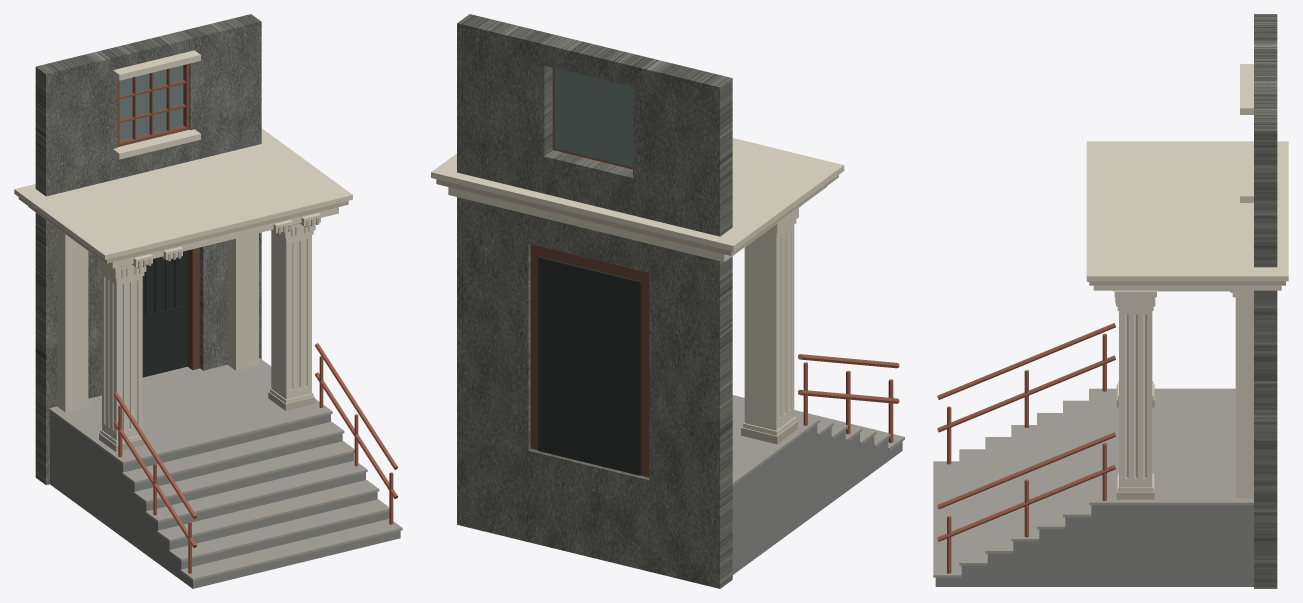
File: yangpu-fangsan-special-number-entrance-lod.glb
The picture shows the model from 3 angles, left to right: view 1: azimuth 30°, elevation 25°; view 2: azimuth 150°, elevation 25°; view 3: azimuth 270°, elevation 25°; orthographic projection. The views are drawn at different scales.
Parts seen in each view (by area): view 1: 纺三小区特号住宅门廊与石阶; view 2: 纺三小区特号住宅门廊与石阶; view 3: 纺三小区特号住宅门廊与石阶.
Boxes of the visible parts, box(x1,y1,x2,y2) form: 纺三小区特号住宅门廊与石阶: box(14, 14, 402, 588); 纺三小区特号住宅门廊与石阶: box(431, 14, 904, 588); 纺三小区特号住宅门廊与石阶: box(933, 14, 1288, 588).
Size of the model in its own units: 3.65 by 5.78 by 4.07.
14 materials, 1 textured.
